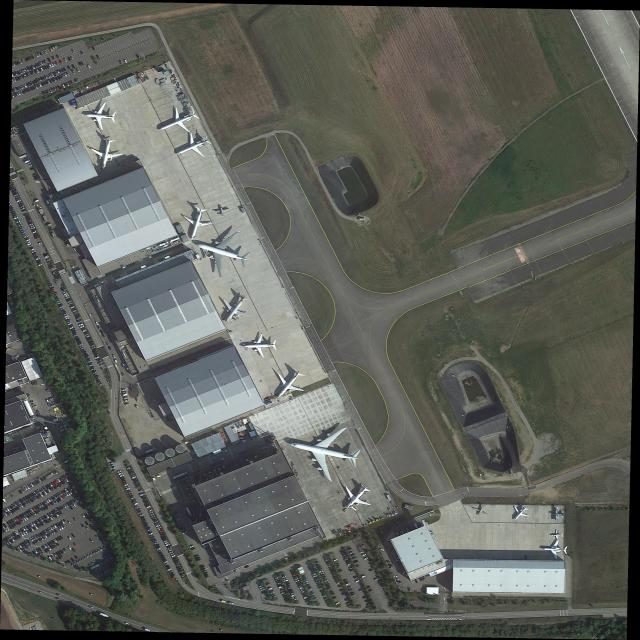plane: (276, 416, 374, 487), (184, 222, 263, 285), (328, 472, 383, 520), (262, 362, 315, 411), (151, 99, 206, 145), (209, 287, 260, 332), (166, 126, 219, 169), (82, 135, 129, 177), (177, 202, 217, 244), (81, 99, 123, 135), (238, 333, 280, 359), (504, 499, 536, 527), (538, 539, 571, 561), (467, 499, 493, 521), (212, 201, 232, 218), (550, 507, 566, 524), (548, 530, 566, 542)
small-vehicle: (100, 613, 110, 618), (2, 498, 7, 504), (45, 199, 50, 205), (66, 65, 72, 70), (66, 501, 71, 507), (144, 628, 151, 632), (136, 52, 140, 59), (96, 325, 101, 330), (14, 501, 19, 506), (27, 499, 32, 504), (24, 495, 29, 500), (47, 57, 52, 62), (37, 67, 42, 72), (77, 61, 82, 66), (71, 64, 76, 69), (66, 559, 71, 564), (341, 591, 346, 596), (39, 517, 44, 522), (80, 523, 85, 528), (40, 545, 45, 550), (95, 357, 101, 361), (122, 393, 128, 397), (33, 199, 39, 203), (24, 160, 30, 164), (12, 214, 18, 218), (169, 573, 175, 577), (161, 558, 167, 562), (244, 565, 249, 569), (89, 342, 94, 346), (92, 349, 97, 353), (77, 341, 82, 345), (30, 483, 34, 488), (26, 486, 31, 490), (21, 489, 25, 494), (135, 404, 139, 409), (136, 398, 140, 403), (107, 410, 111, 415), (78, 323, 83, 327), (57, 301, 62, 305), (95, 320, 99, 325), (112, 354, 116, 359), (8, 525, 13, 529), (4, 508, 8, 513), (6, 508, 11, 512), (10, 524, 15, 528), (53, 495, 57, 500), (47, 498, 52, 502), (26, 515, 31, 519), (23, 517, 27, 522), (41, 487, 45, 492), (45, 489, 49, 494), (43, 486, 47, 491), (51, 481, 55, 486), (63, 479, 67, 484), (37, 489, 41, 494), (11, 504, 16, 508), (17, 500, 21, 505), (21, 503, 26, 507), (21, 497, 25, 502), (26, 500, 30, 505), (27, 494, 31, 499), (31, 497, 35, 502), (33, 496, 38, 500), (31, 492, 35, 497), (68, 81, 72, 86), (70, 80, 74, 85), (76, 78, 80, 83), (51, 72, 55, 77), (61, 74, 66, 78), (27, 66, 31, 71), (27, 56, 31, 61), (19, 75, 23, 80), (72, 70, 76, 75), (43, 50, 47, 55), (52, 62, 56, 67), (70, 56, 74, 61), (16, 199, 21, 203), (48, 226, 53, 230), (36, 259, 41, 263), (20, 207, 25, 211), (30, 248, 35, 252), (25, 238, 30, 242), (16, 222, 21, 226), (16, 220, 21, 224), (56, 69, 61, 73), (32, 80, 36, 85), (33, 79, 38, 83), (35, 78, 40, 82), (38, 77, 42, 82), (17, 76, 21, 81), (29, 167, 34, 171), (15, 197, 20, 201), (92, 46, 96, 51), (57, 75, 61, 80), (59, 74, 63, 79), (278, 585, 283, 589), (268, 587, 273, 591), (195, 556, 200, 560), (167, 568, 172, 572), (163, 560, 168, 564), (173, 560, 178, 564), (172, 558, 177, 562), (155, 545, 160, 549), (330, 592, 335, 596), (64, 561, 69, 565), (72, 548, 76, 553), (64, 503, 69, 507), (69, 505, 73, 510), (49, 512, 54, 516), (35, 520, 40, 524), (73, 503, 77, 508), (26, 525, 30, 530), (73, 518, 78, 522), (28, 529, 33, 533), (36, 524, 40, 529), (34, 525, 38, 530), (4, 537, 9, 541), (12, 532, 16, 537), (47, 503, 52, 507), (46, 504, 50, 509), (66, 487, 71, 491), (26, 539, 30, 544), (22, 527, 26, 532), (22, 532, 27, 536), (23, 546, 27, 551), (18, 529, 22, 534), (8, 540, 12, 545), (73, 543, 78, 547), (58, 527, 62, 532), (49, 531, 54, 535), (44, 534, 48, 539), (134, 502, 139, 506), (126, 487, 131, 491), (57, 522, 61, 527), (38, 547, 42, 552), (36, 548, 40, 553), (59, 550, 64, 554), (50, 555, 54, 560), (47, 542, 51, 547), (39, 532, 44, 536), (35, 534, 39, 539), (31, 536, 35, 541), (29, 538, 34, 542), (70, 557, 74, 562), (59, 535, 63, 540), (57, 536, 61, 541), (49, 545, 53, 550), (70, 328, 76, 331), (71, 310, 77, 313), (65, 298, 71, 301), (94, 356, 100, 359), (23, 235, 29, 238), (29, 225, 35, 228), (34, 178, 40, 181), (221, 600, 227, 603), (229, 602, 235, 605), (293, 598, 299, 601), (337, 584, 343, 587), (83, 352, 87, 356), (88, 361, 92, 365), (36, 480, 40, 484), (28, 484, 32, 488), (18, 490, 22, 494), (10, 494, 14, 498), (106, 406, 110, 410), (40, 478, 44, 482), (121, 372, 125, 376), (114, 359, 118, 363), (92, 369, 96, 373), (38, 479, 42, 483), (42, 476, 46, 480), (30, 508, 34, 512), (22, 513, 26, 517), (20, 514, 24, 518), (18, 515, 22, 519), (8, 520, 12, 524), (6, 521, 10, 525), (8, 511, 12, 515), (6, 512, 10, 516), (4, 513, 8, 517), (10, 510, 14, 514), (8, 507, 12, 511), (35, 505, 39, 509), (38, 509, 42, 513), (57, 493, 61, 497), (55, 494, 59, 498), (42, 502, 46, 506), (40, 503, 44, 507), (38, 504, 42, 508), (12, 522, 16, 526), (34, 510, 38, 514), (30, 513, 34, 517), (28, 514, 32, 518), (25, 516, 29, 520), (21, 518, 25, 522), (17, 521, 21, 525), (9, 505, 13, 509), (53, 485, 57, 489), (44, 491, 48, 495), (45, 485, 49, 489), (47, 484, 51, 488), (49, 483, 53, 487), (53, 481, 57, 485), (57, 483, 61, 487), (63, 475, 67, 479), (59, 477, 63, 481), (57, 478, 61, 482), (65, 479, 69, 483), (39, 489, 43, 493), (16, 506, 20, 510), (23, 497, 27, 501), (14, 503, 18, 507), (19, 499, 23, 503), (40, 493, 44, 497), (29, 498, 33, 502), (29, 494, 33, 498), (33, 492, 37, 496), (37, 494, 41, 498), (35, 490, 39, 494), (61, 490, 65, 494), (20, 91, 24, 95), (16, 93, 20, 97), (64, 83, 68, 87), (21, 85, 25, 89), (44, 75, 48, 79), (47, 75, 51, 79), (54, 71, 58, 75), (66, 83, 70, 87), (62, 84, 66, 88), (66, 72, 70, 76), (46, 65, 50, 69), (67, 57, 71, 61), (35, 63, 39, 67), (16, 71, 20, 75), (16, 60, 20, 64), (42, 91, 46, 95), (49, 89, 53, 93), (51, 88, 55, 92), (35, 53, 39, 57), (71, 49, 75, 53), (80, 61, 84, 65), (36, 69, 40, 73), (19, 70, 23, 74), (25, 68, 29, 72), (87, 65, 91, 69), (119, 61, 123, 65), (56, 55, 60, 59), (59, 60, 63, 64), (29, 70, 33, 74), (32, 252, 36, 256), (38, 263, 42, 267), (18, 224, 22, 228), (12, 212, 16, 216), (23, 74, 27, 78), (53, 72, 57, 76), (51, 78, 55, 82), (40, 82, 44, 86), (23, 89, 27, 93), (25, 88, 29, 92), (42, 76, 46, 80), (21, 74, 25, 78), (59, 69, 63, 73), (33, 173, 37, 177), (50, 48, 54, 52), (13, 93, 17, 97), (12, 72, 16, 76), (60, 85, 64, 89), (55, 76, 59, 80), (89, 605, 93, 609), (204, 573, 208, 577), (200, 565, 204, 569), (303, 578, 307, 582), (283, 577, 287, 581), (175, 562, 179, 566), (148, 530, 152, 534), (401, 530, 405, 534), (99, 329, 103, 333), (322, 575, 326, 579), (334, 558, 338, 562), (421, 576, 425, 580), (362, 553, 366, 557), (402, 571, 406, 575), (75, 498, 79, 502), (71, 500, 75, 504), (69, 501, 73, 505), (56, 507, 60, 511), (51, 511, 55, 515), (46, 515, 50, 519), (43, 515, 47, 519), (41, 516, 45, 520), (37, 519, 41, 523), (32, 522, 36, 526), (30, 523, 34, 527), (59, 510, 63, 514), (84, 521, 88, 525), (82, 514, 86, 518), (90, 539, 94, 543), (95, 535, 99, 539), (85, 511, 89, 515), (50, 516, 54, 520), (42, 521, 46, 525), (38, 523, 42, 527), (31, 528, 35, 532), (28, 524, 32, 528), (25, 531, 29, 535), (68, 536, 72, 540), (54, 500, 58, 504), (9, 535, 13, 539), (7, 536, 11, 540), (3, 538, 7, 542), (2, 514, 6, 518), (52, 501, 56, 505), (50, 502, 54, 506), (42, 506, 46, 510), (68, 492, 72, 496), (69, 491, 73, 495), (69, 487, 73, 491), (11, 534, 15, 538), (15, 531, 19, 535), (24, 526, 28, 530), (21, 548, 25, 552), (24, 545, 28, 549), (27, 544, 31, 548), (29, 543, 33, 547), (24, 540, 28, 544), (12, 538, 16, 542), (20, 543, 24, 547), (17, 535, 21, 539), (9, 539, 13, 543), (71, 533, 75, 537), (62, 525, 66, 529), (60, 526, 64, 530), (54, 529, 58, 533), (52, 530, 56, 534), (42, 536, 46, 540), (40, 537, 44, 541), (60, 521, 64, 525), (55, 523, 59, 527), (156, 524, 160, 528), (68, 546, 72, 550), (60, 555, 64, 559), (48, 547, 52, 551), (44, 549, 48, 553), (34, 550, 38, 554), (30, 552, 34, 556), (53, 559, 57, 563), (57, 551, 61, 555), (55, 552, 59, 556), (74, 556, 78, 560), (62, 550, 66, 554), (52, 526, 56, 530), (33, 536, 37, 540), (49, 527, 53, 531), (48, 528, 52, 532), (45, 529, 49, 533), (44, 530, 48, 534), (41, 531, 45, 535), (36, 539, 40, 543), (49, 541, 53, 545), (55, 538, 59, 542), (54, 544, 58, 548), (54, 539, 58, 543), (51, 540, 55, 544), (93, 354, 98, 357), (75, 337, 80, 340), (68, 324, 73, 327), (89, 366, 94, 369), (125, 403, 130, 406), (124, 400, 129, 403), (124, 397, 129, 400), (96, 381, 101, 384), (94, 375, 99, 378), (73, 311, 78, 314), (90, 344, 95, 347), (82, 329, 87, 332), (80, 325, 85, 328), (76, 317, 81, 320), (64, 315, 69, 318), (78, 343, 83, 346), (63, 313, 68, 316), (70, 306, 75, 309), (67, 300, 72, 303), (69, 304, 74, 307), (122, 391, 127, 394), (98, 383, 103, 386), (122, 362, 125, 367), (80, 347, 85, 350), (100, 363, 105, 366), (89, 364, 94, 367), (87, 360, 92, 363), (61, 289, 66, 292), (39, 83, 42, 88), (52, 46, 55, 51), (97, 55, 100, 60), (77, 68, 80, 73), (32, 65, 35, 70), (46, 259, 51, 262), (73, 247, 76, 252), (49, 229, 54, 232), (27, 162, 32, 165), (19, 206, 24, 209), (23, 213, 28, 216), (21, 209, 26, 212), (28, 244, 33, 247), (27, 243, 32, 246), (26, 241, 31, 244), (34, 236, 39, 239), (14, 216, 19, 219), (20, 230, 25, 233), (32, 231, 37, 234), (28, 223, 33, 226), (14, 218, 19, 221), (9, 207, 14, 210), (13, 194, 18, 197), (12, 192, 17, 195), (11, 190, 16, 193), (10, 188, 15, 191), (161, 537, 166, 540), (266, 582, 271, 585), (260, 588, 265, 591), (259, 586, 264, 589), (55, 597, 60, 600), (56, 593, 61, 596), (281, 575, 286, 578), (299, 586, 304, 589), (300, 588, 305, 591), (295, 579, 300, 582), (294, 577, 299, 580), (292, 596, 297, 599), (291, 594, 296, 597), (284, 579, 289, 582), (196, 559, 201, 562), (194, 555, 199, 558), (156, 548, 161, 551), (202, 570, 207, 573), (190, 545, 195, 548), (182, 531, 187, 534), (171, 577, 176, 580), (168, 570, 173, 573), (167, 547, 172, 550), (131, 499, 136, 502), (176, 568, 181, 571), (165, 566, 170, 569), (160, 557, 165, 560), (160, 555, 165, 558), (159, 553, 164, 556), (144, 525, 149, 528), (143, 521, 148, 524), (327, 587, 332, 590), (326, 585, 331, 588), (325, 583, 330, 586), (343, 579, 348, 582), (353, 576, 358, 579), (354, 560, 359, 563), (352, 557, 357, 560), (329, 590, 334, 593), (332, 596, 337, 599), (160, 535, 165, 538), (160, 533, 165, 536), (87, 340, 92, 343), (102, 333, 105, 338), (320, 589, 325, 592), (316, 583, 321, 586), (322, 577, 327, 580), (326, 601, 331, 604), (346, 602, 351, 605), (355, 580, 360, 583), (315, 580, 320, 583), (311, 573, 316, 576), (322, 593, 327, 596), (347, 586, 352, 589), (362, 575, 367, 578), (307, 563, 312, 566), (334, 561, 339, 564), (396, 580, 401, 583), (388, 564, 393, 567), (359, 589, 364, 592), (364, 557, 369, 560), (374, 578, 379, 581), (58, 497, 61, 502), (21, 533, 24, 538), (157, 526, 162, 529), (122, 480, 127, 483), (119, 474, 124, 477), (118, 472, 123, 475), (125, 485, 130, 488), (136, 508, 141, 511), (154, 520, 159, 523), (151, 515, 156, 518), (149, 511, 154, 514), (147, 507, 152, 510), (139, 514, 144, 517), (137, 510, 142, 513), (132, 501, 137, 504), (128, 491, 133, 494), (130, 474, 135, 477), (49, 556, 52, 561), (86, 358, 90, 361), (82, 351, 86, 354), (81, 349, 85, 352), (83, 331, 87, 334), (76, 339, 80, 342), (74, 336, 78, 339), (59, 304, 63, 307), (74, 313, 78, 316), (34, 482, 38, 485), (25, 487, 28, 491), (23, 488, 26, 492), (93, 373, 97, 376), (96, 379, 100, 382), (95, 377, 99, 380), (65, 317, 69, 320), (74, 334, 78, 337), (86, 335, 90, 338), (85, 333, 89, 336), (67, 321, 71, 324), (60, 308, 64, 311), (57, 300, 61, 303), (69, 302, 73, 305), (66, 296, 70, 299), (65, 294, 69, 297), (56, 298, 60, 301), (47, 281, 51, 284), (106, 342, 109, 346), (85, 356, 89, 359), (63, 291, 67, 294), (13, 518, 16, 522), (32, 507, 35, 511), (28, 509, 31, 513), (26, 511, 30, 514), (24, 512, 28, 515), (17, 516, 20, 520), (15, 517, 18, 521), (10, 519, 14, 522), (6, 527, 9, 531), (4, 528, 7, 532), (51, 497, 55, 500), (50, 498, 53, 502), (46, 500, 49, 504), (44, 501, 47, 505), (36, 510, 40, 513), (33, 512, 36, 516), (19, 519, 22, 523), (15, 521, 18, 525), (14, 507, 17, 511), (65, 474, 68, 478), (49, 487, 52, 491), (51, 487, 55, 490), (56, 484, 59, 488), (42, 492, 45, 496), (55, 480, 59, 483), (59, 482, 63, 485), (61, 481, 65, 484), (61, 476, 64, 480), (18, 505, 21, 509), (20, 504, 23, 508), (24, 502, 27, 506), (36, 495, 39, 499), (64, 293, 68, 296), (75, 79, 78, 83), (54, 78, 57, 82), (47, 80, 50, 84), (37, 84, 40, 88), (12, 94, 15, 98), (18, 92, 21, 96), (18, 87, 21, 91), (13, 88, 16, 92), (19, 86, 23, 89), (24, 85, 28, 88), (49, 74, 52, 78), (39, 52, 43, 55), (44, 65, 47, 69), (34, 64, 37, 68), (30, 66, 33, 70), (25, 58, 28, 62), (54, 87, 57, 91), (31, 55, 34, 59), (14, 71, 17, 75), (45, 90, 48, 94), (47, 90, 50, 94), (56, 86, 59, 90), (64, 73, 67, 77), (34, 69, 37, 73), (38, 53, 41, 57), (21, 59, 24, 63), (14, 62, 18, 65), (13, 63, 16, 67), (41, 67, 44, 71), (32, 71, 35, 75), (12, 79, 15, 83), (14, 78, 17, 82), (22, 70, 25, 74), (44, 60, 47, 64), (49, 64, 52, 68), (51, 63, 54, 67), (55, 61, 58, 65), (52, 56, 55, 60), (64, 58, 67, 62), (124, 59, 127, 63), (26, 73, 29, 77), (51, 289, 55, 292), (45, 255, 49, 258), (25, 237, 29, 240), (28, 221, 32, 224), (26, 219, 30, 222), (26, 217, 30, 220), (25, 215, 29, 218), (18, 201, 22, 204), (49, 285, 53, 288), (36, 257, 40, 260), (32, 250, 36, 253), (38, 242, 42, 245), (20, 228, 24, 231), (19, 226, 23, 229), (31, 227, 35, 230), (28, 87, 31, 91), (49, 79, 52, 83), (22, 90, 25, 94), (32, 86, 36, 89), (26, 83, 29, 87), (28, 82, 31, 86), (30, 81, 33, 85), (40, 77, 44, 80), (63, 67, 66, 71), (11, 211, 15, 214), (10, 209, 14, 212), (15, 195, 19, 198), (42, 66, 45, 70), (58, 85, 61, 89), (59, 492, 63, 495), (277, 582, 281, 585), (275, 578, 279, 581), (271, 591, 275, 594), (281, 591, 285, 594), (125, 622, 129, 625), (39, 591, 43, 594), (205, 576, 209, 579), (203, 572, 207, 575), (201, 568, 205, 571), (281, 589, 285, 592), (311, 593, 315, 596), (306, 584, 310, 587), (305, 582, 309, 585), (304, 580, 308, 583), (301, 575, 305, 578), (301, 590, 305, 593), (298, 584, 302, 587), (304, 596, 308, 599), (313, 597, 317, 600), (191, 547, 195, 550), (176, 518, 180, 521), (165, 563, 169, 566), (172, 555, 176, 558), (141, 495, 145, 498), (169, 549, 173, 552), (165, 541, 169, 544), (164, 539, 168, 542), (154, 542, 158, 545), (153, 540, 157, 543), (176, 564, 180, 567), (169, 572, 173, 575), (178, 570, 182, 573), (157, 550, 161, 553), (140, 515, 144, 518), (146, 527, 150, 530), (144, 523, 148, 526), (142, 519, 146, 522), (141, 517, 145, 520), (311, 595, 315, 598), (350, 592, 354, 595), (348, 588, 352, 591), (344, 581, 348, 584), (335, 579, 339, 582), (333, 574, 337, 577), (331, 572, 335, 575), (310, 592, 314, 595), (339, 570, 343, 573), (160, 532, 164, 535), (406, 528, 409, 532), (396, 532, 399, 536), (404, 529, 407, 533), (399, 531, 402, 535), (321, 591, 325, 594), (318, 586, 322, 589), (317, 566, 321, 569), (318, 568, 322, 571), (329, 566, 333, 569), (314, 561, 318, 564), (336, 602, 340, 605), (346, 583, 350, 586), (328, 564, 332, 567), (327, 563, 331, 566), (325, 559, 329, 562), (351, 594, 355, 597), (337, 581, 341, 584), (325, 581, 329, 584), (324, 579, 328, 582), (321, 572, 325, 575), (319, 570, 323, 573), (315, 578, 319, 581), (313, 575, 317, 578), (324, 597, 328, 600), (325, 599, 329, 602), (394, 575, 398, 578), (336, 564, 340, 567), (335, 563, 339, 566), (419, 577, 422, 581), (415, 579, 418, 583), (386, 560, 390, 563), (380, 548, 384, 551), (344, 558, 348, 561), (149, 533, 153, 536), (159, 530, 163, 533), (65, 489, 68, 493), (73, 499, 76, 503), (61, 506, 65, 509), (59, 506, 62, 510), (55, 509, 59, 512), (68, 521, 71, 525), (86, 526, 89, 530), (57, 512, 61, 515), (56, 513, 59, 517), (52, 515, 55, 519), (48, 518, 52, 521), (46, 519, 49, 523), (44, 520, 47, 524), (40, 522, 44, 525), (33, 526, 36, 530), (66, 493, 69, 497), (60, 497, 64, 500), (56, 499, 59, 503), (44, 506, 48, 509), (40, 507, 43, 511), (74, 489, 77, 493), (20, 529, 24, 532), (19, 549, 23, 552), (22, 542, 26, 545), (19, 545, 23, 548), (15, 536, 18, 540), (13, 537, 17, 540), (6, 541, 9, 545), (117, 470, 121, 473), (124, 484, 128, 487), (64, 519, 67, 523), (62, 520, 65, 524), (123, 482, 127, 485), (155, 522, 159, 525), (152, 517, 156, 520), (149, 509, 153, 512), (130, 495, 134, 498), (129, 493, 133, 496), (132, 476, 136, 479), (53, 525, 57, 528), (46, 548, 49, 552), (41, 551, 44, 555), (33, 551, 36, 555), (58, 555, 61, 559), (46, 544, 49, 548), (56, 557, 59, 561), (54, 553, 57, 557), (64, 548, 67, 552), (44, 545, 47, 549), (38, 533, 41, 537), (32, 541, 35, 545), (52, 544, 55, 548), (84, 355, 89, 357), (71, 330, 76, 332), (62, 312, 67, 314), (75, 316, 80, 318), (59, 306, 64, 308), (122, 389, 127, 391), (98, 362, 103, 364), (47, 261, 52, 263), (21, 232, 26, 234), (274, 577, 279, 579), (308, 588, 313, 590), (287, 587, 292, 589), (169, 551, 174, 553), (151, 537, 156, 539), (150, 535, 155, 537), (320, 574, 325, 576), (315, 564, 320, 566), (347, 564, 352, 566), (109, 464, 114, 466), (140, 494, 145, 496), (129, 473, 134, 475), (146, 506, 151, 508), (135, 507, 140, 509), (108, 346, 111, 349), (33, 483, 36, 486), (34, 506, 37, 509), (12, 509, 15, 512), (48, 489, 51, 492), (35, 86, 38, 89), (38, 63, 41, 66), (29, 56, 32, 59), (19, 61, 22, 64), (81, 52, 84, 55), (40, 62, 43, 65), (42, 61, 45, 64), (29, 164, 32, 167), (43, 82, 46, 85), (30, 87, 33, 90), (61, 68, 64, 71), (19, 203, 22, 206), (63, 490, 66, 493), (301, 573, 304, 576), (291, 592, 294, 595), (297, 582, 300, 585), (424, 576, 427, 579), (396, 558, 399, 561), (53, 510, 56, 513), (64, 505, 67, 508), (48, 514, 51, 517), (34, 521, 37, 524), (54, 515, 57, 518), (64, 495, 67, 498), (62, 496, 65, 499), (27, 530, 30, 533), (17, 546, 20, 549), (48, 533, 51, 536), (46, 534, 49, 537), (38, 538, 41, 541), (39, 553, 42, 556), (34, 540, 37, 543), (56, 543, 59, 546), (86, 337, 90, 339), (94, 352, 98, 354), (66, 319, 70, 321), (61, 310, 65, 312), (70, 327, 74, 329), (68, 323, 72, 325), (91, 347, 95, 349), (79, 346, 83, 348), (53, 295, 57, 297), (48, 283, 52, 285), (91, 368, 95, 370), (25, 158, 29, 160), (34, 256, 38, 258), (22, 234, 26, 236), (259, 585, 263, 587), (303, 577, 307, 579), (293, 574, 297, 576), (285, 581, 289, 583), (171, 553, 175, 555), (166, 544, 170, 546), (142, 498, 146, 500), (176, 566, 180, 568), (158, 552, 162, 554), (172, 557, 176, 559), (147, 529, 151, 531), (307, 586, 311, 588), (296, 581, 300, 583), (286, 585, 290, 587), (286, 583, 290, 585), (367, 586, 371, 588), (356, 565, 360, 567), (369, 569, 373, 571), (349, 567, 353, 569), (337, 567, 341, 569), (324, 557, 328, 559), (343, 555, 347, 557), (409, 588, 411, 592), (395, 578, 399, 580), (389, 567, 393, 569), (369, 590, 373, 592), (350, 552, 354, 554), (127, 467, 131, 469), (111, 470, 115, 472), (111, 467, 115, 469), (109, 462, 113, 464), (150, 514, 154, 516), (131, 497, 135, 499), (98, 360, 101, 362), (93, 372, 96, 374), (30, 247, 33, 249), (235, 570, 238, 572), (315, 601, 318, 603)
